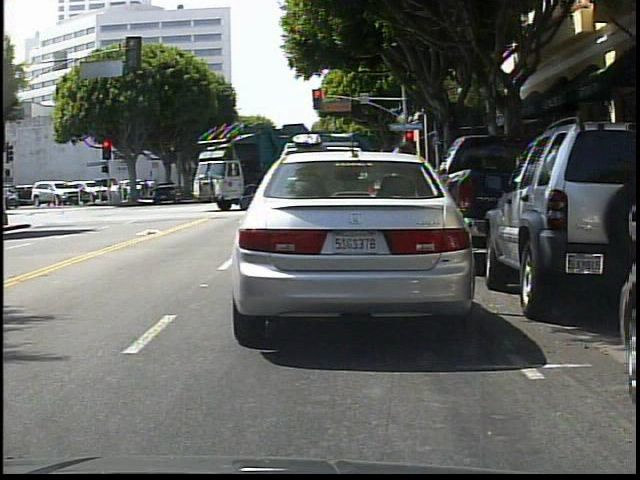person: (384, 138, 426, 277)
